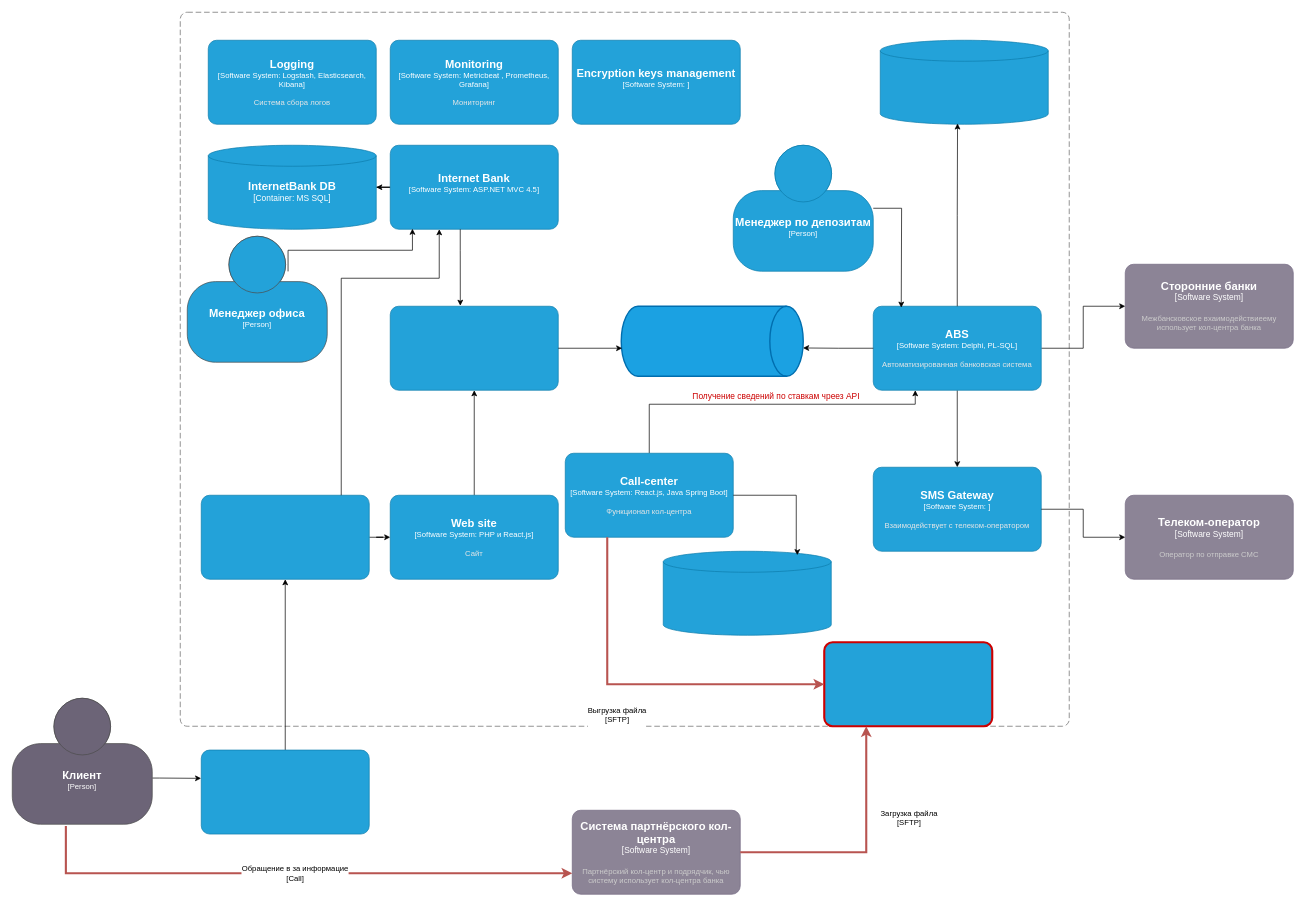
Image size: 1306x907. Some labels were removed from this diagram. Each missing label, with the box of its shape:
ABS DB [Container: Oracle]: (880, 40, 1048, 124)
API Gateway [Software System: ] Шлюз: (201, 495, 369, 579)
Backend [Software System: .NetCore 10] Для работы с кафкой: (390, 306, 558, 390)
Bank System [Банковская система]: (180, 12, 1069, 726)
Call-center DB [Container: PostgreSQL]: (663, 551, 831, 635)
Kafka: (620, 305, 804, 377)
Load Balancer [Software System: ] Выбор ЦОД: (201, 749, 369, 834)
Хранилище файлов [Software System: SFTP] Актуальные данные по ставкам: (823, 641, 993, 727)
